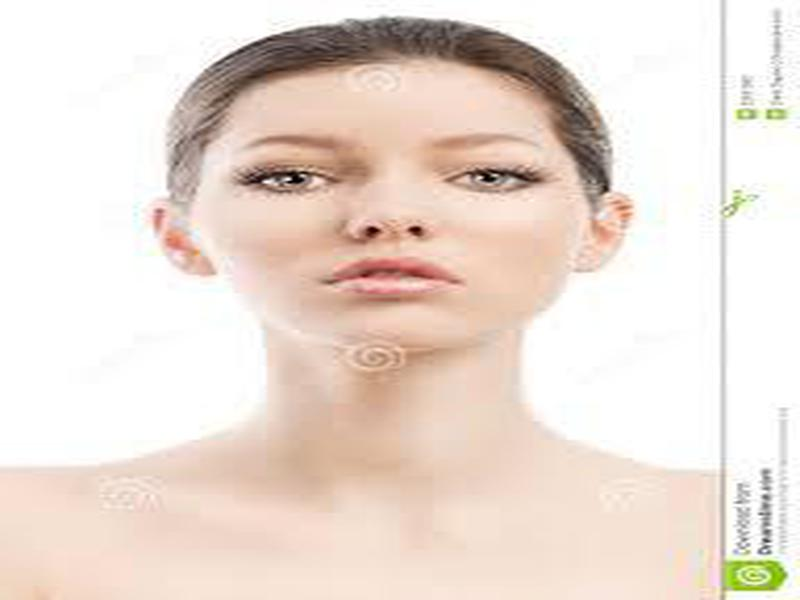without_mask: (195, 80, 587, 359)
